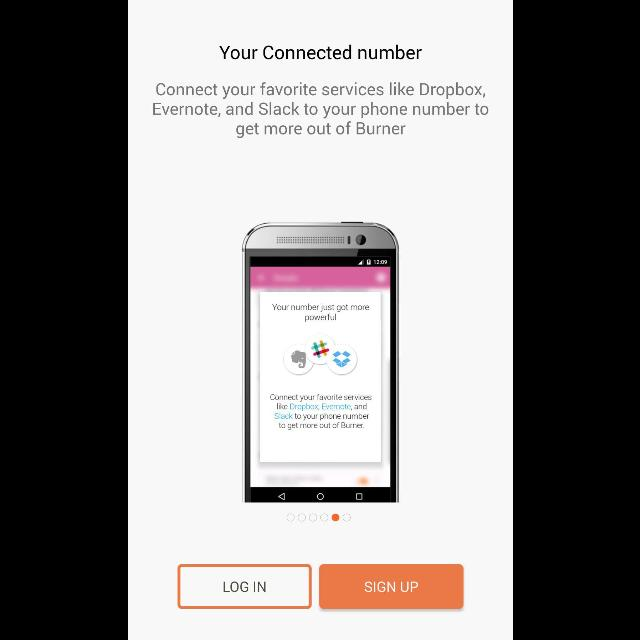image: (241, 222, 399, 502)
pageindicator: (286, 514, 350, 522)
text: (152, 82, 488, 138), (219, 44, 421, 60)
textbutton: (318, 564, 462, 608), (177, 564, 311, 608)
